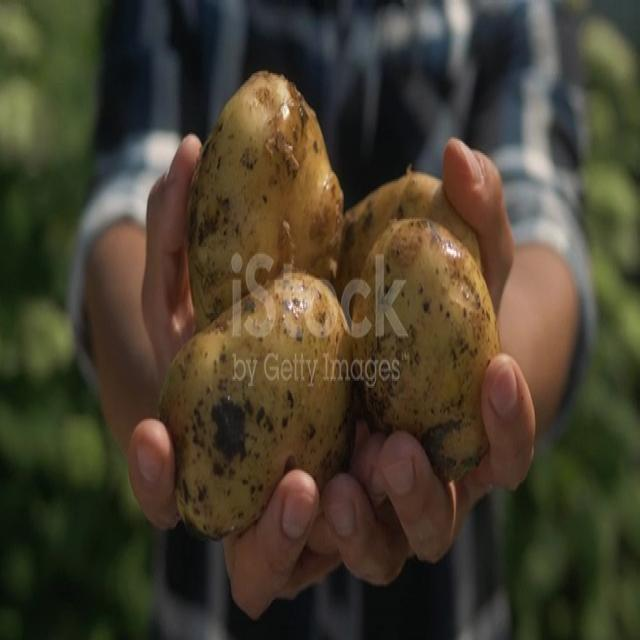potato: (159, 272, 354, 538), (341, 217, 500, 479), (188, 72, 342, 329), (336, 170, 481, 295)
